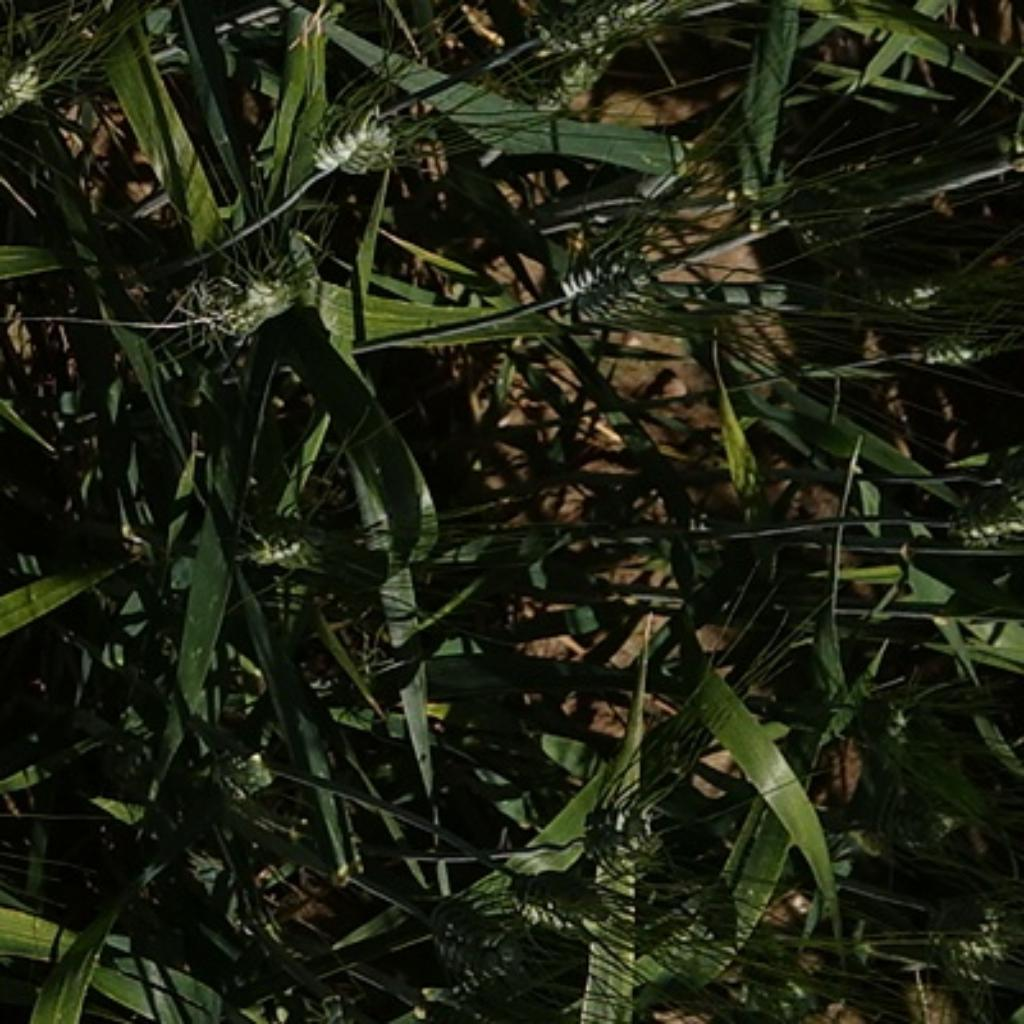0-0: (517, 0, 696, 97), (407, 872, 547, 995), (227, 478, 376, 581), (179, 235, 314, 340), (494, 855, 634, 949), (908, 870, 1021, 977), (570, 780, 668, 890), (558, 236, 659, 326), (299, 99, 404, 174), (916, 478, 1021, 550), (898, 320, 1008, 376), (0, 53, 56, 140)
